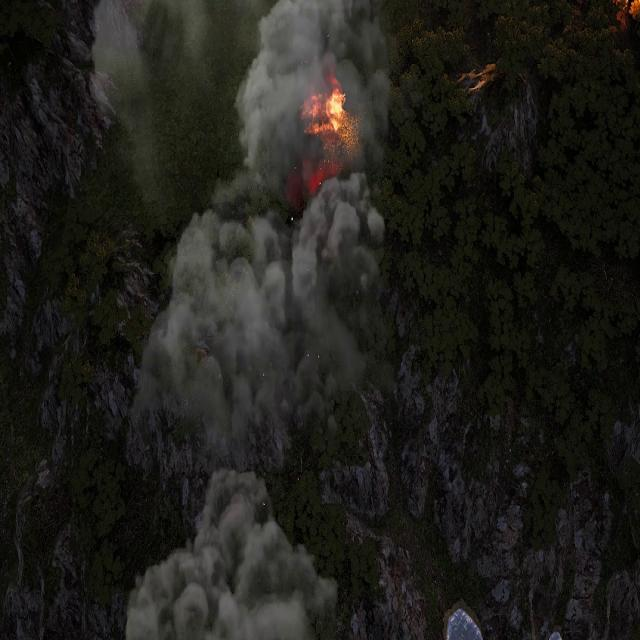fire: (301, 72, 359, 140)
smoke: (128, 4, 408, 475), (127, 469, 344, 639), (91, 3, 218, 201)
